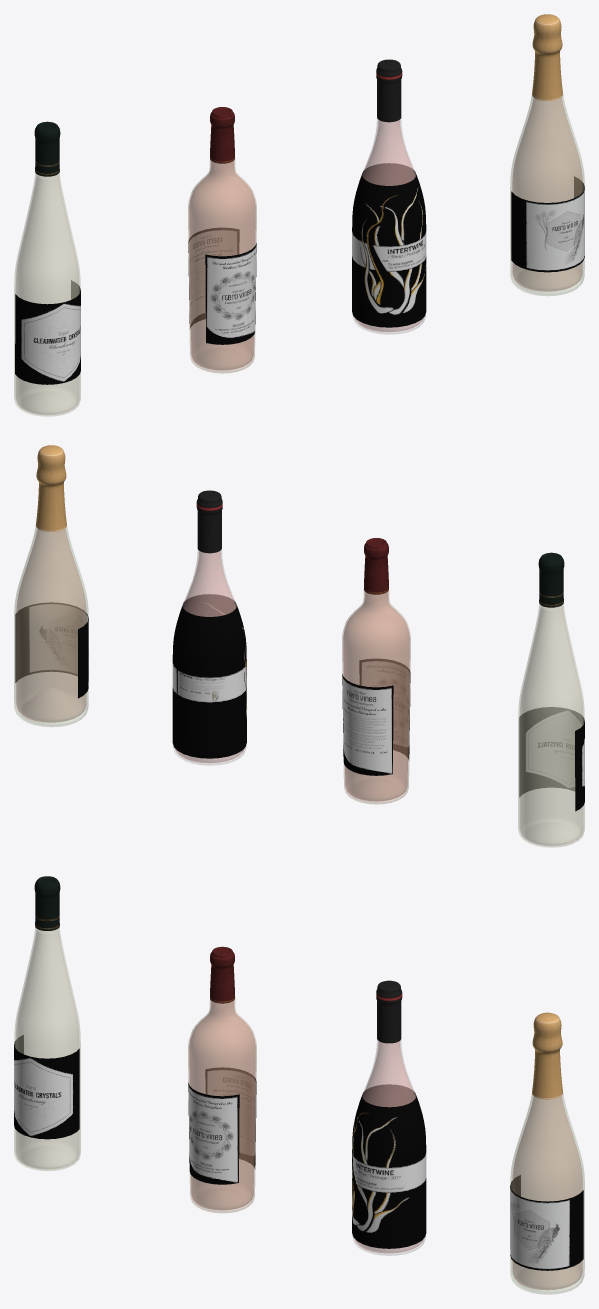
Rendered from wine_bottle.glb.
3 views of the same model, one above another, from view 1: azimuth 30°, elevation 25°; view 2: azimuth 150°, elevation 25°; view 3: azimuth 330°, elevation 25° (orthographic).
Parts seen in each view (by area): view 1: wine_bottles_01_champagne, wine_bottles_01_alsace, wine_bottles_01_burgundy, wine_bottles_01_bordeaux; view 2: wine_bottles_01_champagne, wine_bottles_01_alsace, wine_bottles_01_burgundy, wine_bottles_01_bordeaux; view 3: wine_bottles_01_champagne, wine_bottles_01_alsace, wine_bottles_01_burgundy, wine_bottles_01_bordeaux.
Part boxes in pixels (x1,y1,x2,y2): wine_bottles_01_champagne: (510, 14, 584, 295); wine_bottles_01_alsace: (14, 121, 80, 416); wine_bottles_01_burgundy: (352, 59, 426, 334); wine_bottles_01_bordeaux: (188, 107, 256, 373); wine_bottles_01_champagne: (14, 445, 88, 726); wine_bottles_01_alsace: (518, 552, 584, 847); wine_bottles_01_burgundy: (172, 490, 246, 765); wine_bottles_01_bordeaux: (342, 538, 410, 804); wine_bottles_01_champagne: (510, 1012, 584, 1294); wine_bottles_01_alsace: (14, 876, 80, 1170); wine_bottles_01_burgundy: (352, 980, 426, 1255); wine_bottles_01_bordeaux: (188, 946, 256, 1212).
Size of the model in its own units: 0.6737 by 0.32 by 0.0778.
Materials: 12 (9 with a texture image).
